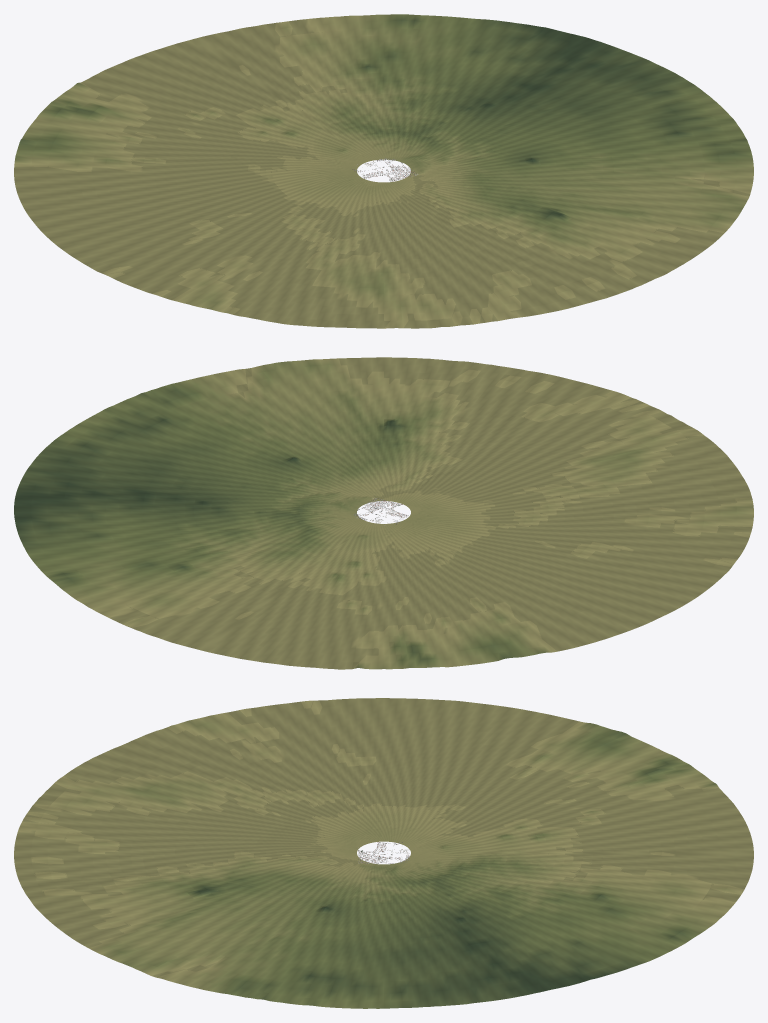
File: mars_part2.glb
3 views of the same model, one above another, from view 1: azimuth 30°, elevation 25°; view 2: azimuth 150°, elevation 25°; view 3: azimuth 270°, elevation 25° (orthographic).
Parts seen in each view (by area): view 1: far_land; view 2: far_land; view 3: far_land.
Boxes of the visible parts, x1,y1,x2,y2 form: far_land: (14, 14, 753, 328); far_land: (14, 357, 753, 669); far_land: (14, 698, 753, 1008).
Size of the model in its own units: 52000 by 484 by 52000.
2 materials, 2 textured.
